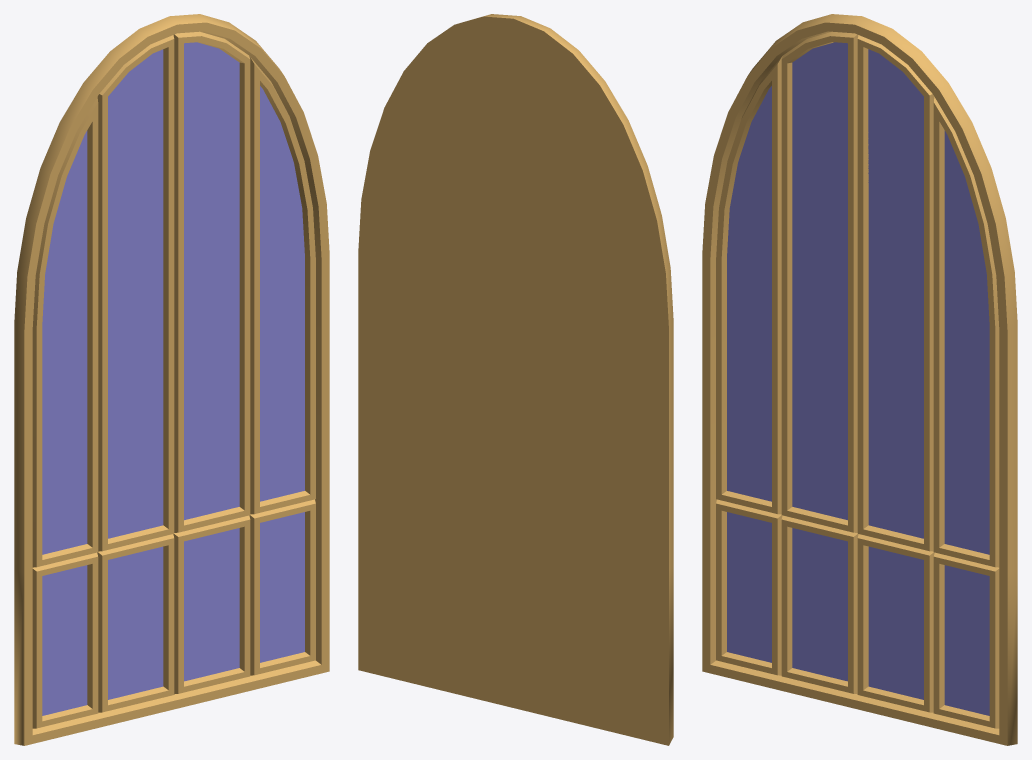
Rendered from SP_House10_Window01.fbx.
The picture shows the model from 3 angles, left to right: view 1: azimuth 30°, elevation 25°; view 2: azimuth 150°, elevation 25°; view 3: azimuth 330°, elevation 25°; orthographic projection.
Visible parts, largest first — view 1: SP_House10_Window01; view 2: SP_House10_Window01; view 3: SP_House10_Window01.
Part boxes in pixels (x1,y1,x2,y2): SP_House10_Window01: (14,14,329,745); SP_House10_Window01: (358,14,673,745); SP_House10_Window01: (702,14,1017,745).
Bounding box in the file's own units: 1.15 × 2.44 × 0.0483.
